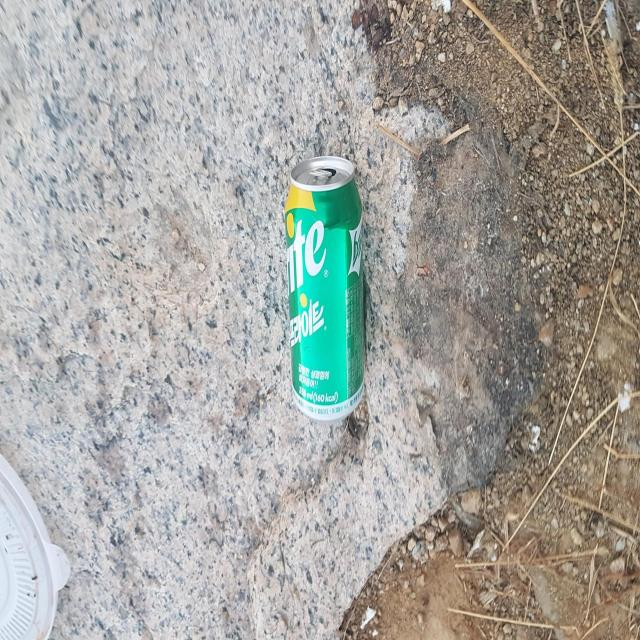can: (285, 155, 364, 420)
